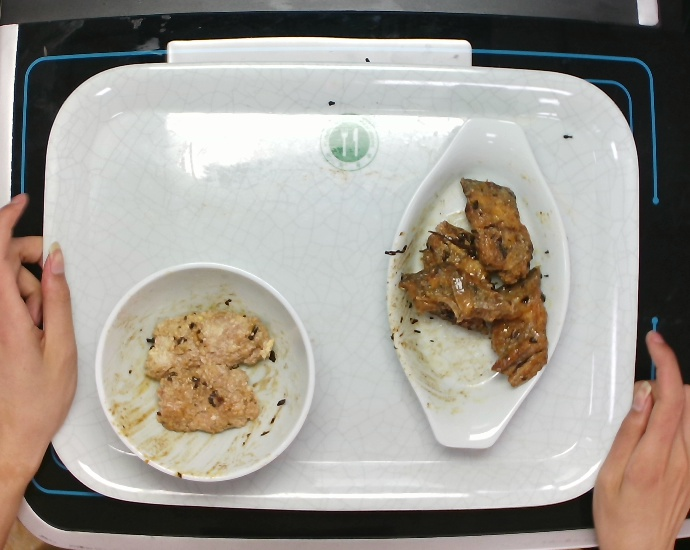JYsf-Fan_Wan: (93, 260, 317, 484)
JYsf-Yu_Pan: (384, 115, 572, 452)
